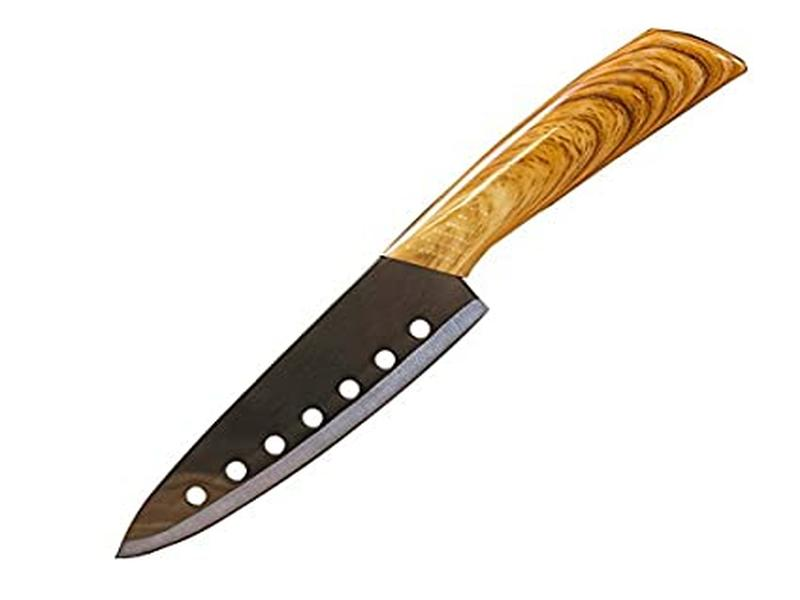KNIFE: (106, 24, 751, 568)
